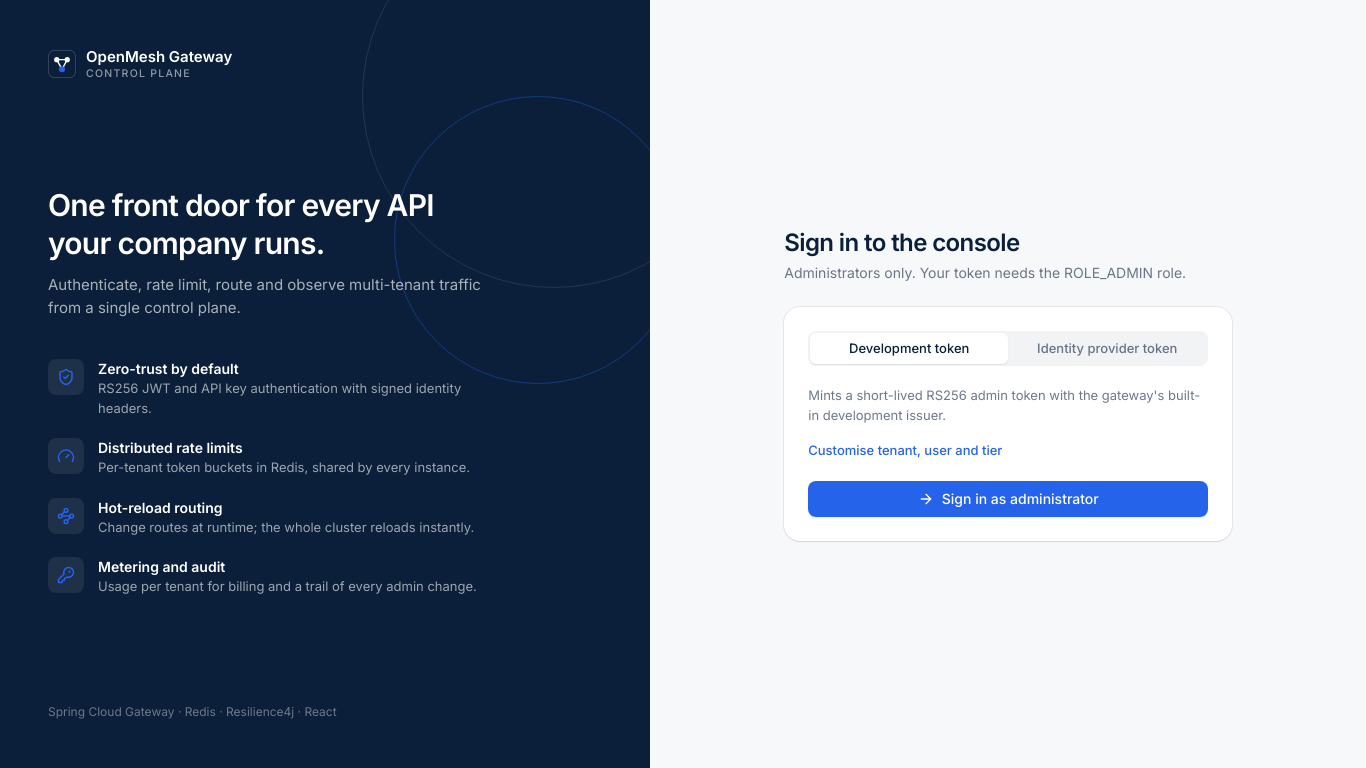
it: console › signs in with the development issuer and shows the dashboard
The width and height of the screenshot is (1366, 768).
What coordinates should you click on to do the following:
click the button "Sign in as administrator"
I would click on:
 (1008, 499)
Its box is [808,481,1208,517].
(page scrolled)
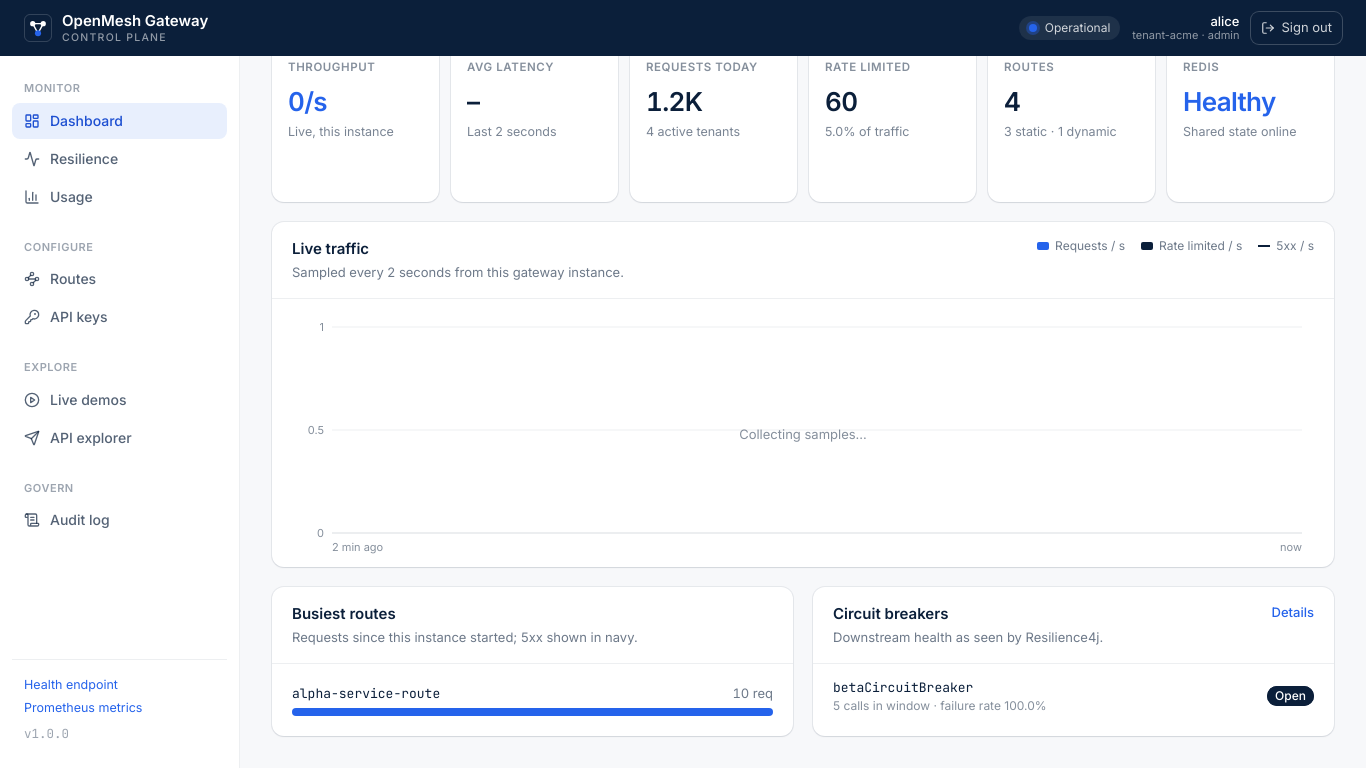
Now the text "1.2K" is shown, box [646,86,702,117]
Now the text "betaCircuitBreaker" is shown, box [833,679,973,696]
Now the text "Open" is shown, box [1267,686,1314,706]
